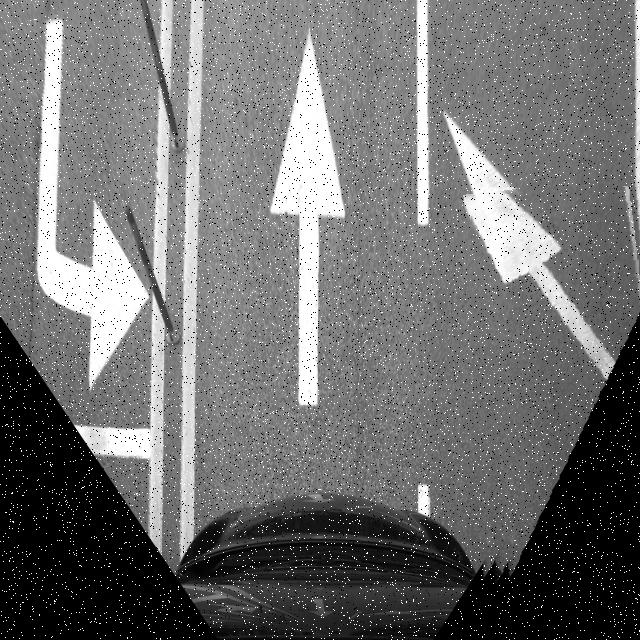left: (469, 187, 640, 640)
